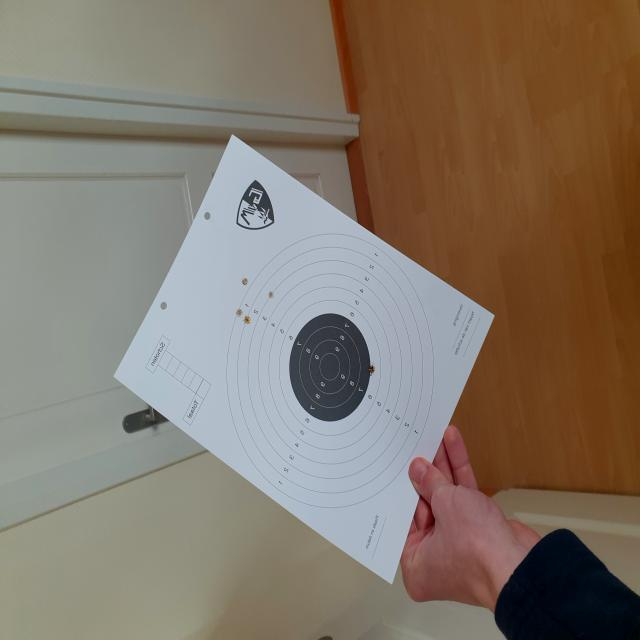0: (241, 277, 248, 286)
1: (235, 308, 243, 318)
2: (243, 316, 251, 326)
3: (268, 291, 274, 299)
7: (368, 363, 376, 376)
Target: (225, 234, 435, 510)
black_contour: (289, 313, 370, 422)
